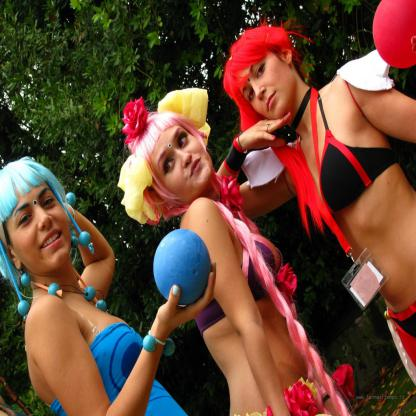Ball: (154, 231, 211, 306)
